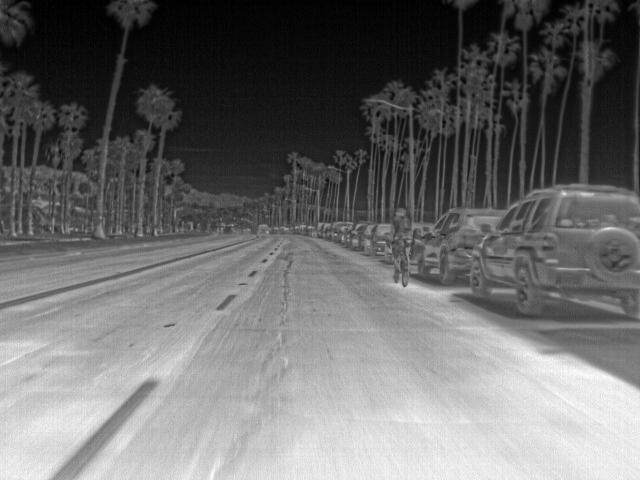car: (474, 183, 638, 322), (418, 206, 505, 283), (371, 218, 392, 254), (350, 224, 368, 250), (361, 224, 376, 252), (256, 222, 272, 236)
person: (392, 206, 410, 276)
